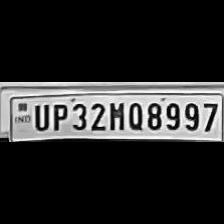2: (87, 99, 105, 131)
3: (68, 99, 88, 130)
7: (200, 100, 218, 132)
8: (144, 99, 162, 131)
9: (163, 99, 181, 131), (180, 99, 198, 131)
M: (106, 99, 126, 131)
P: (48, 101, 68, 131)
Q: (126, 99, 144, 130)
U: (31, 100, 50, 132)
